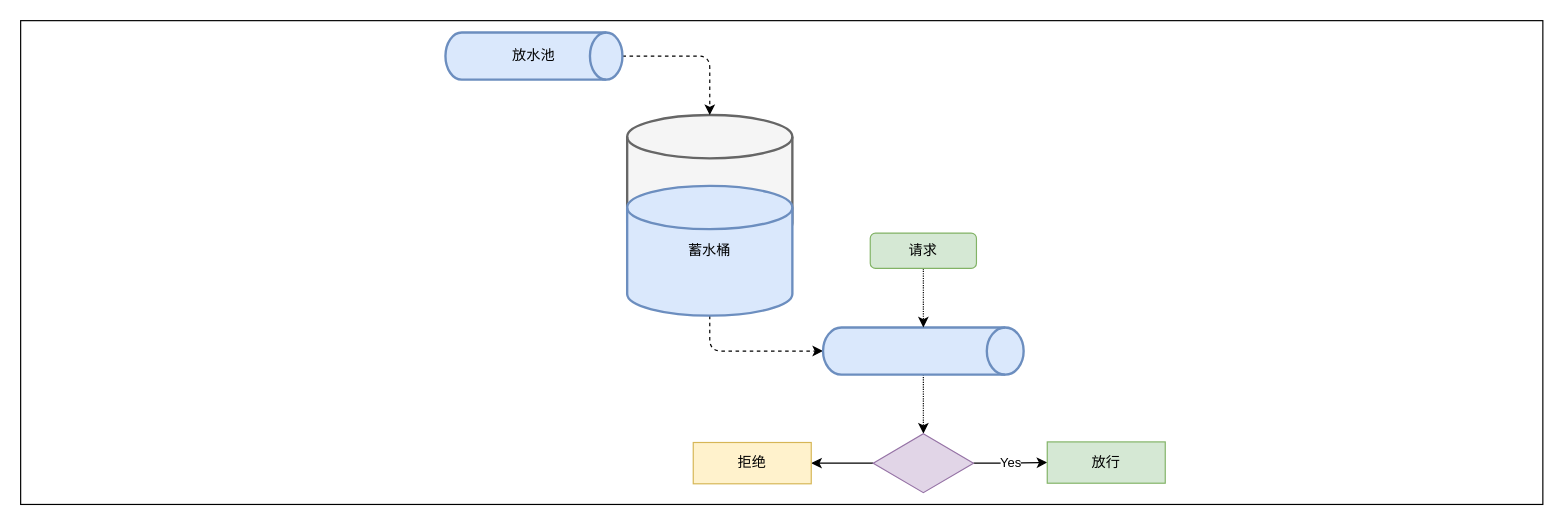
Some shapes in this 1563 by 525 pixel diagram are drawn without their labels. Each missing label, with the centre of its shape:
取到水: the point at 923,462
取水: the point at 922,350
